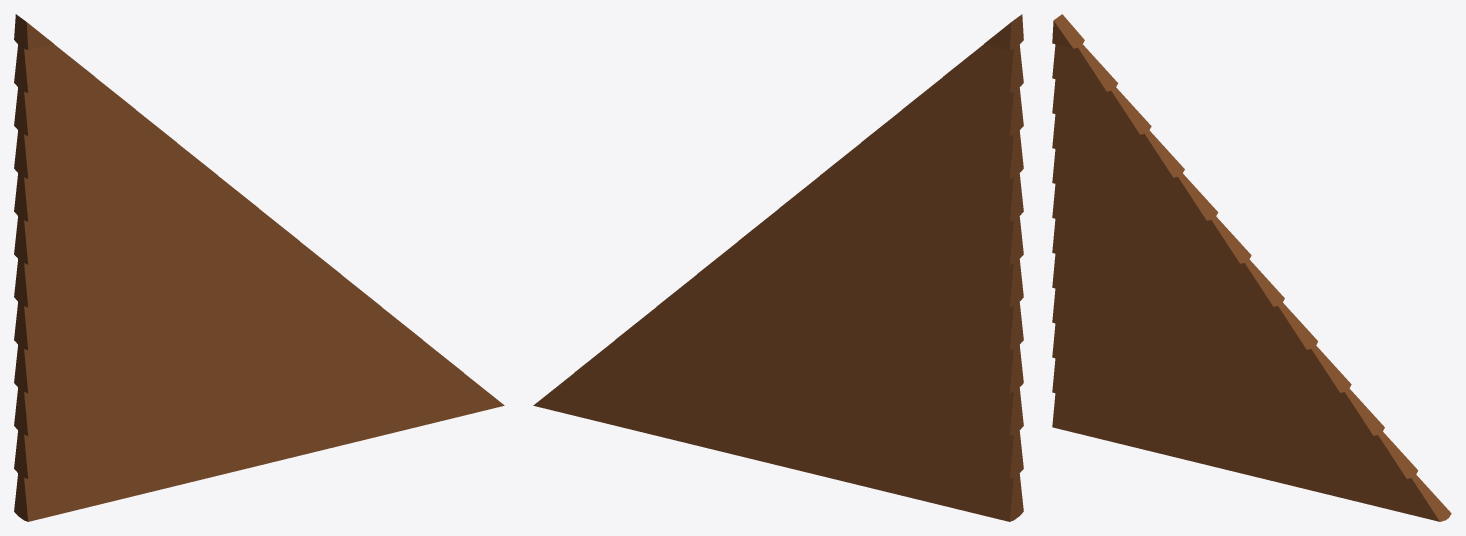
Rendered from ww_triangle_wall_a.glb.
3 views of the same model, side by side, from view 1: azimuth 30°, elevation 25°; view 2: azimuth 150°, elevation 25°; view 3: azimuth 330°, elevation 25° (orthographic). The views are drawn at different scales.
Parts seen in each view (by area): view 1: Triangle_Wall_A; view 2: Triangle_Wall_A; view 3: Triangle_Wall_A.
Part boxes in pixels (x1,y1,x2,y2): Triangle_Wall_A: (14,14,504,521); Triangle_Wall_A: (533,14,1023,521); Triangle_Wall_A: (1052,14,1451,521).
Bounding box in the file's own units: 5.13 × 5.13 × 0.2639.
